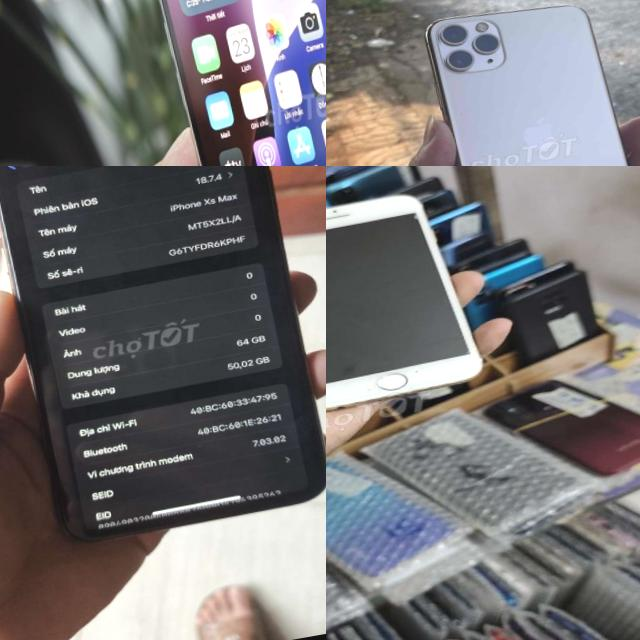gen_11: (411, 0, 640, 166)
gen_16: (116, 0, 326, 166)
gen_6: (326, 194, 479, 410)
gen_x_xs: (0, 166, 326, 539)
